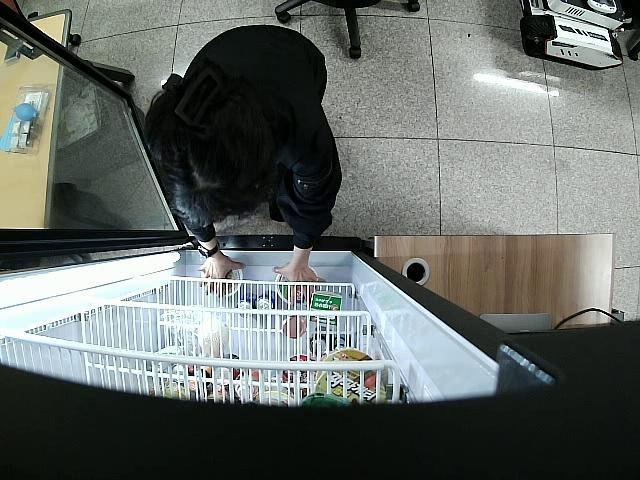09_yukGaeJang: (274, 266, 318, 306), (210, 260, 242, 299)
